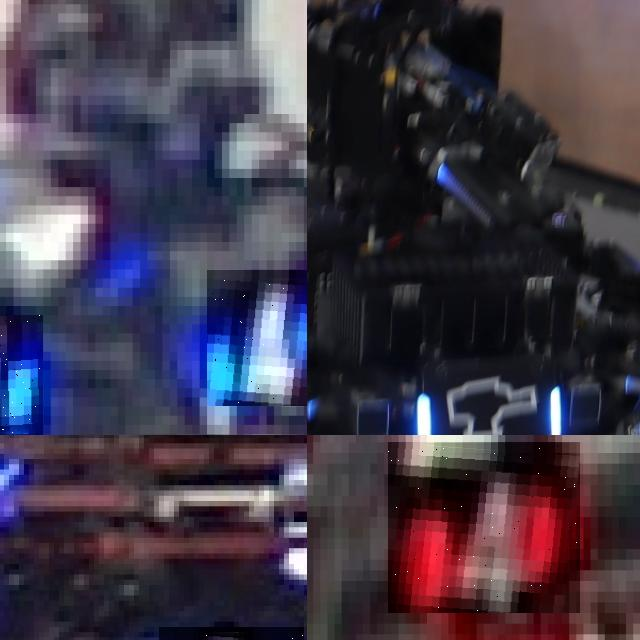B4: (207, 269, 307, 406), (0, 315, 43, 435)
Bs: (413, 373, 567, 435)
R4: (388, 442, 580, 613)
